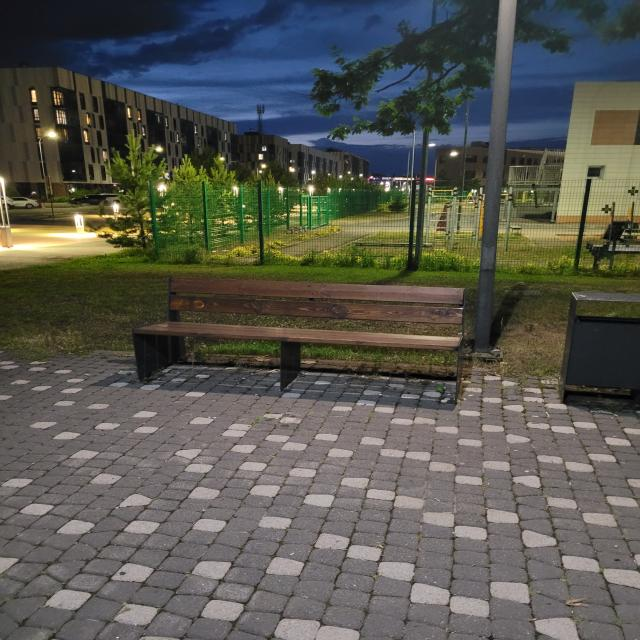Bench: (131, 278, 465, 404)
